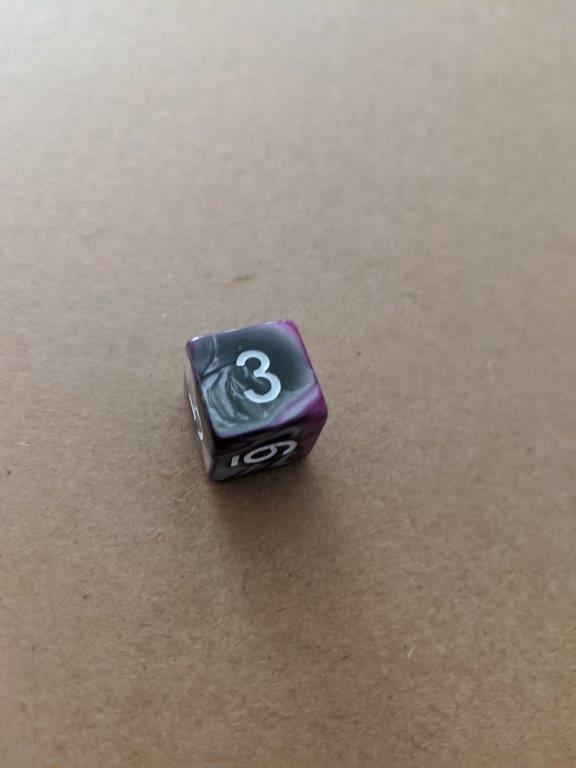d6-3: (183, 316, 331, 484)
